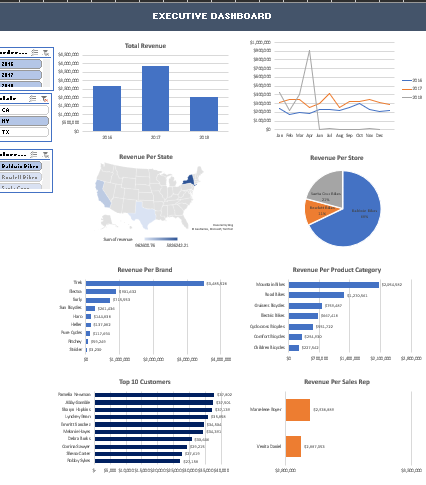

The page's visual inventory and layout, read from the dashboard file:
{"tool":"tableau","page":{"name":"Dashboard 1","canvas":[1000,1900],"ordinal":0},"visuals":[{"type":"image","param":"C:/Users/CapwellTheNerd/Downloads/images.jpg","box":[8,8,204,124]},{"type":"text","box":[212,8,575,124]},{"type":"worksheet","title":"Year","mark":"Automatic","box":[787,8,205,124]},{"type":"worksheet","title":"Banner","mark":"Automatic","box":[8,132,984,208]},{"type":"worksheet","title":"Title","mark":"Automatic","box":[8,340,671,74]},{"type":"filter","title":"Revenue / State","param":"[federated.1f3k97m1dszh1e197io0r10f30cu].[none:state:nk]","box":[679,340,168,74]},{"type":"worksheet","title":"Revenue / Year","mark":"Bar","rows":["revenue"],"cols":["order_date"],"box":[8,414,446,341]},{"type":"worksheet","title":"Revenue / Month","mark":"Automatic","rows":["revenue"],"cols":["order_date"],"box":[454,414,537.9,341]},{"type":"worksheet","title":"Revenue / State","mark":"Multipolygon","box":[8,755,548,332]},{"type":"worksheet","title":"Revenue / Store","mark":"Pie","box":[556,755,436,332]},{"type":"worksheet","title":"Revenue / brand","mark":"Pie","box":[8,1087,420,431]},{"type":"worksheet","title":"Revenue / Category","mark":"Automatic","box":[428,1087,564,431]},{"type":"worksheet","title":"Top Customers","mark":"Automatic","rows":["customers"],"cols":["revenue"],"box":[8,1518,492,359]},{"type":"worksheet","title":"Revenue / Sales Rep","mark":"Automatic","rows":["sales_rep"],"cols":["revenue"],"box":[500,1518,492,359]}]}

Visuals, with their boxes on the page's 1000x1900 design canvas (x1, y1, x2, y2). These are canvas units, not pixel positions in the 426x485 screenshot, which may show the page scaled, cropped or inside an application window:
image: {"x1": 8, "y1": 8, "x2": 212, "y2": 132}
text: {"x1": 212, "y1": 8, "x2": 787, "y2": 132}
"Year" worksheet: {"x1": 787, "y1": 8, "x2": 992, "y2": 132}
"Banner" worksheet: {"x1": 8, "y1": 132, "x2": 992, "y2": 340}
"Title" worksheet: {"x1": 8, "y1": 340, "x2": 679, "y2": 414}
"Revenue / State" filter: {"x1": 679, "y1": 340, "x2": 847, "y2": 414}
"Revenue / Year" worksheet (Bar marks): {"x1": 8, "y1": 414, "x2": 454, "y2": 755}
"Revenue / Month" worksheet: {"x1": 454, "y1": 414, "x2": 992, "y2": 755}
"Revenue / State" worksheet (Multipolygon marks): {"x1": 8, "y1": 755, "x2": 556, "y2": 1087}
"Revenue / Store" worksheet (Pie marks): {"x1": 556, "y1": 755, "x2": 992, "y2": 1087}
"Revenue / brand" worksheet (Pie marks): {"x1": 8, "y1": 1087, "x2": 428, "y2": 1518}
"Revenue / Category" worksheet: {"x1": 428, "y1": 1087, "x2": 992, "y2": 1518}
"Top Customers" worksheet: {"x1": 8, "y1": 1518, "x2": 500, "y2": 1877}
"Revenue / Sales Rep" worksheet: {"x1": 500, "y1": 1518, "x2": 992, "y2": 1877}
